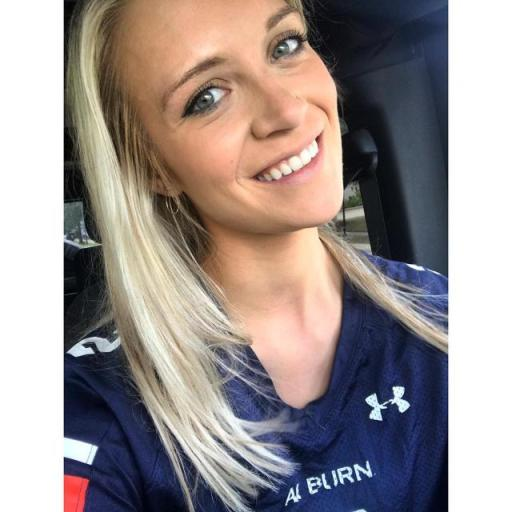Under Armour: (362, 382, 412, 421)
